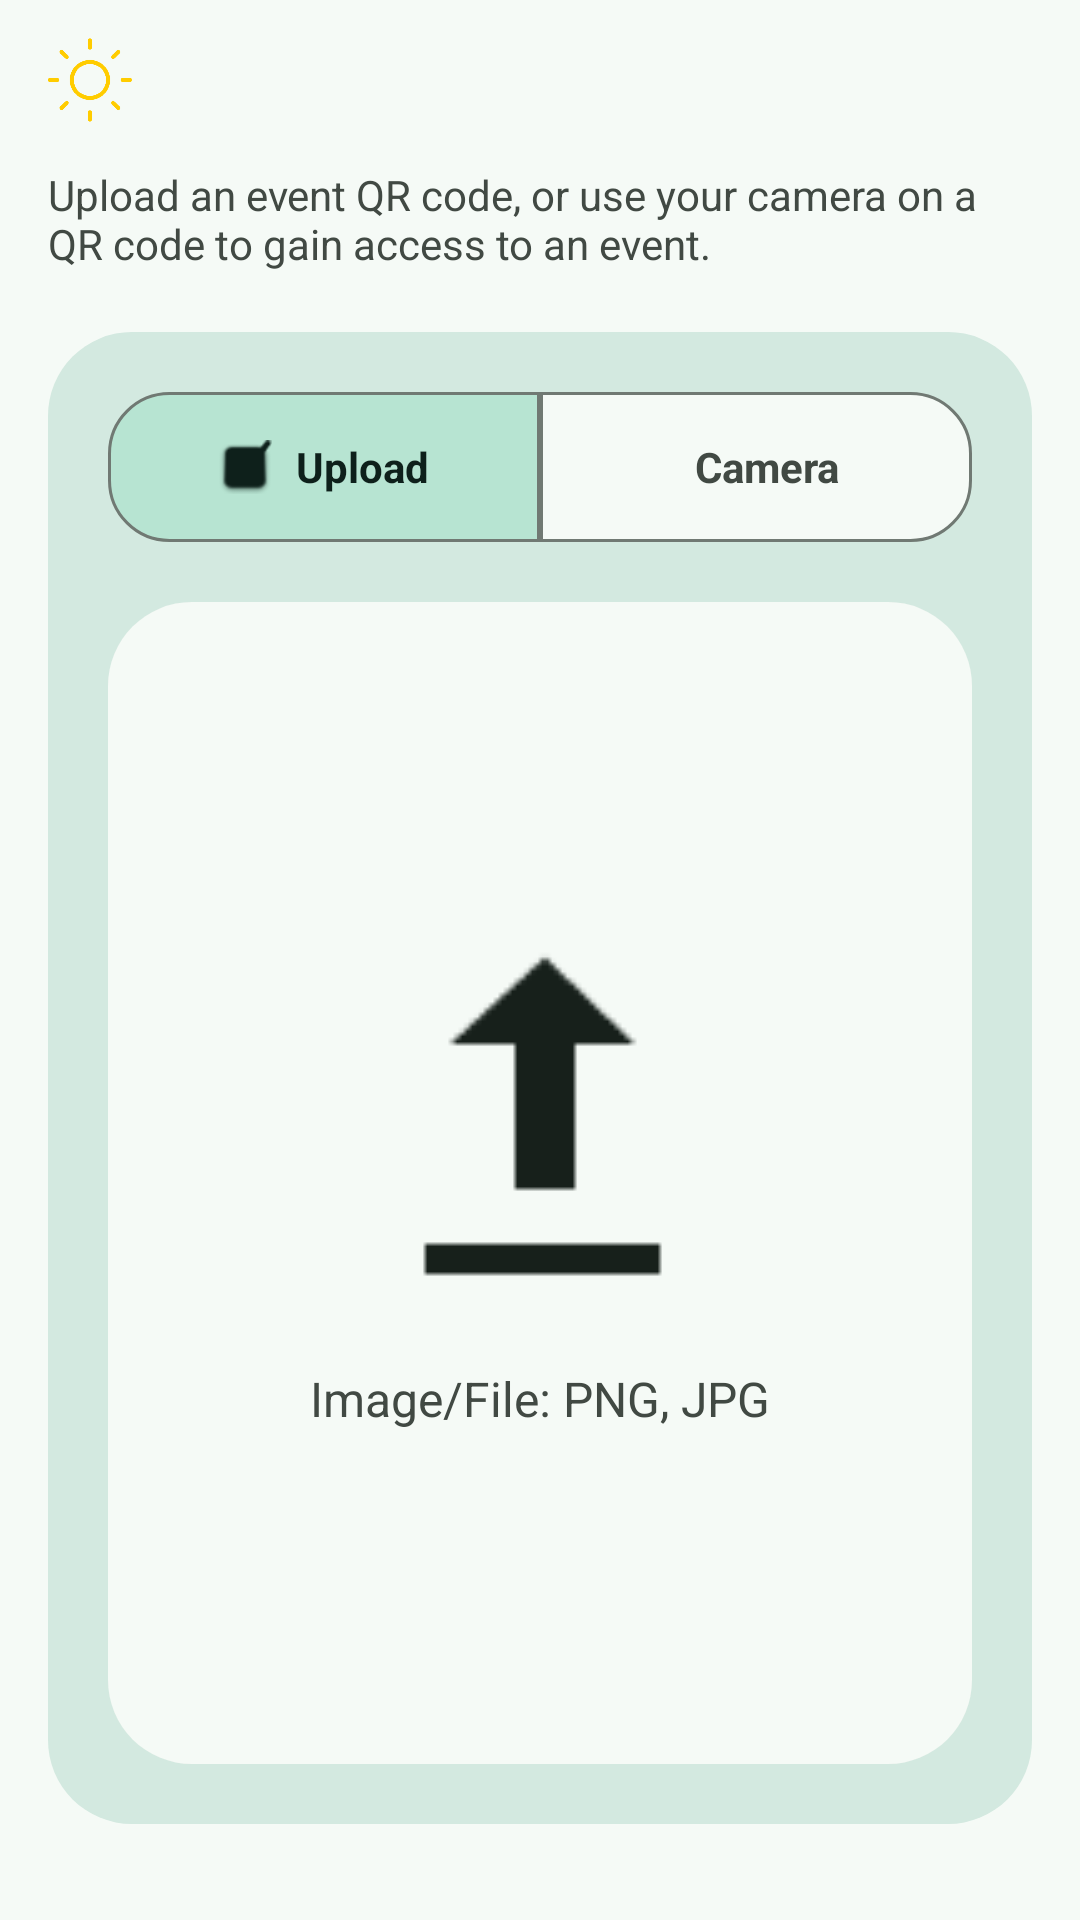

Icon click points for this 1080 × 1920 phone screenshot, format point (x, y):
upload: point (542, 1116)
